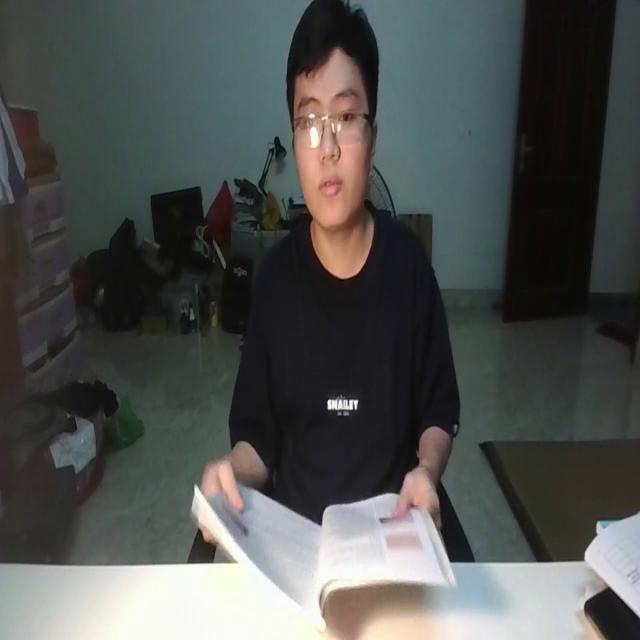book: (188, 463, 460, 624)
student: (184, 0, 460, 550)
